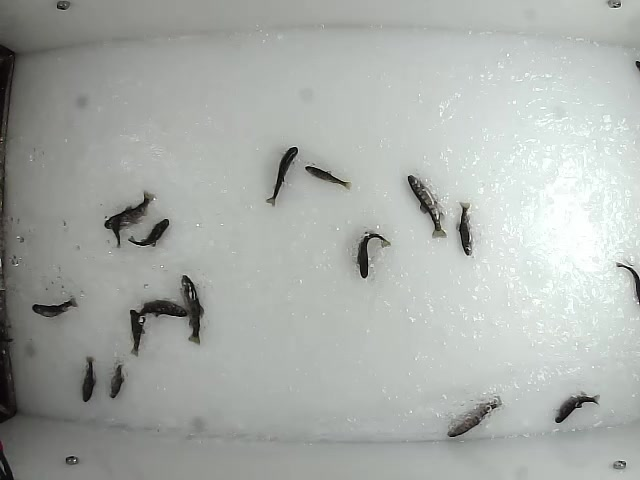fish: (443, 394, 505, 439), (407, 174, 448, 240), (101, 188, 157, 232), (263, 145, 299, 209), (352, 231, 391, 281), (178, 274, 204, 346), (551, 390, 602, 426), (125, 216, 170, 249), (28, 293, 80, 319), (305, 164, 353, 192), (455, 200, 475, 256), (80, 354, 97, 402), (107, 361, 125, 399), (107, 214, 124, 250)
